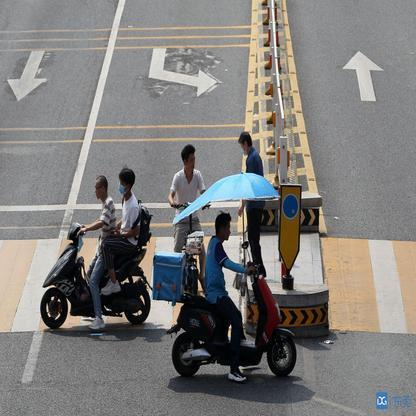target: (173, 214, 302, 383), (39, 166, 150, 335)
